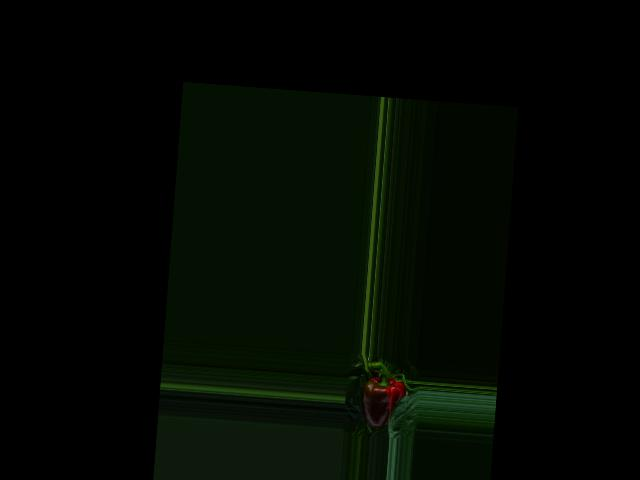bell_pepper: (353, 368, 409, 433)
